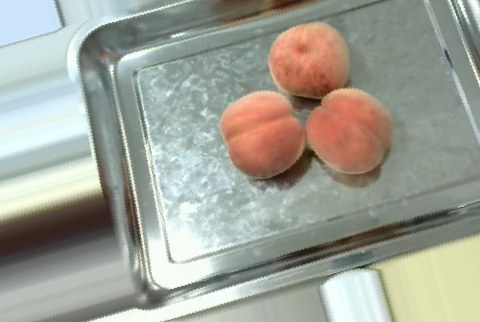Peach: (304, 85, 394, 176), (220, 91, 303, 177), (268, 19, 349, 98)
